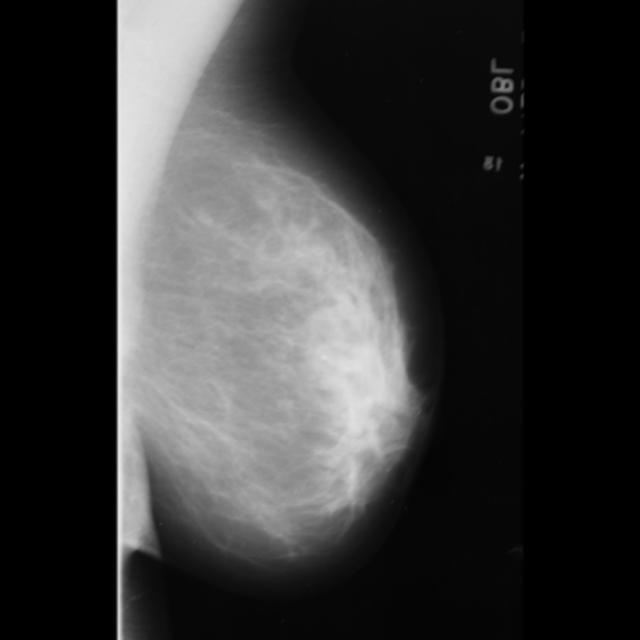CALC: (319, 242, 329, 252)
